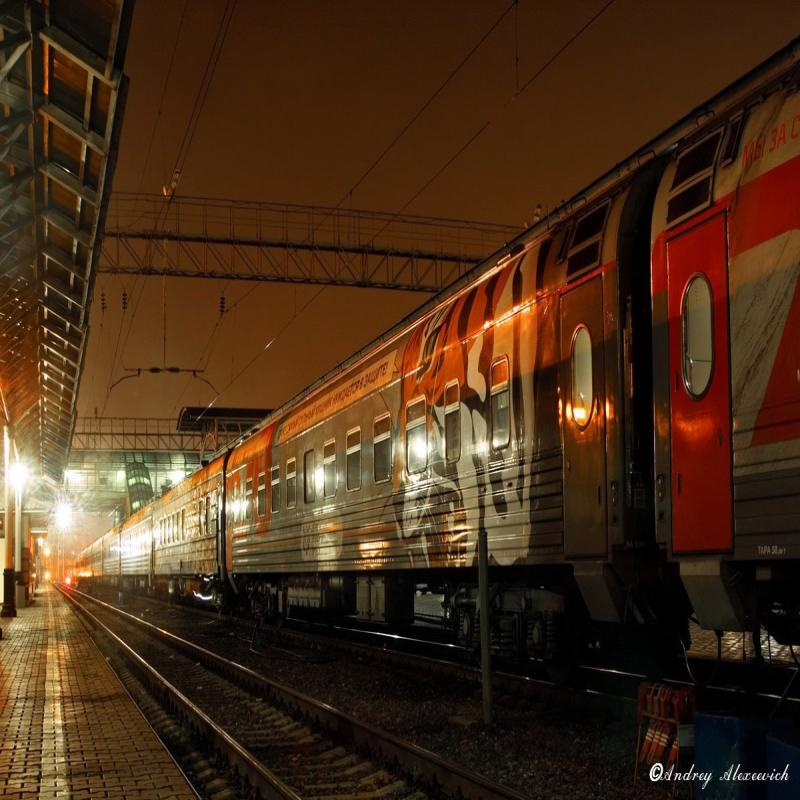train: (219, 178, 671, 708), (144, 438, 237, 631), (119, 494, 164, 588)
